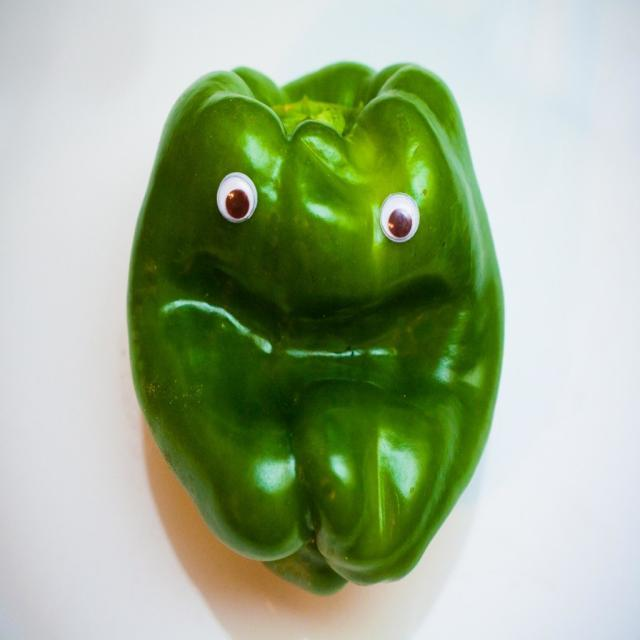Bell pepper: (129, 58, 497, 602)
